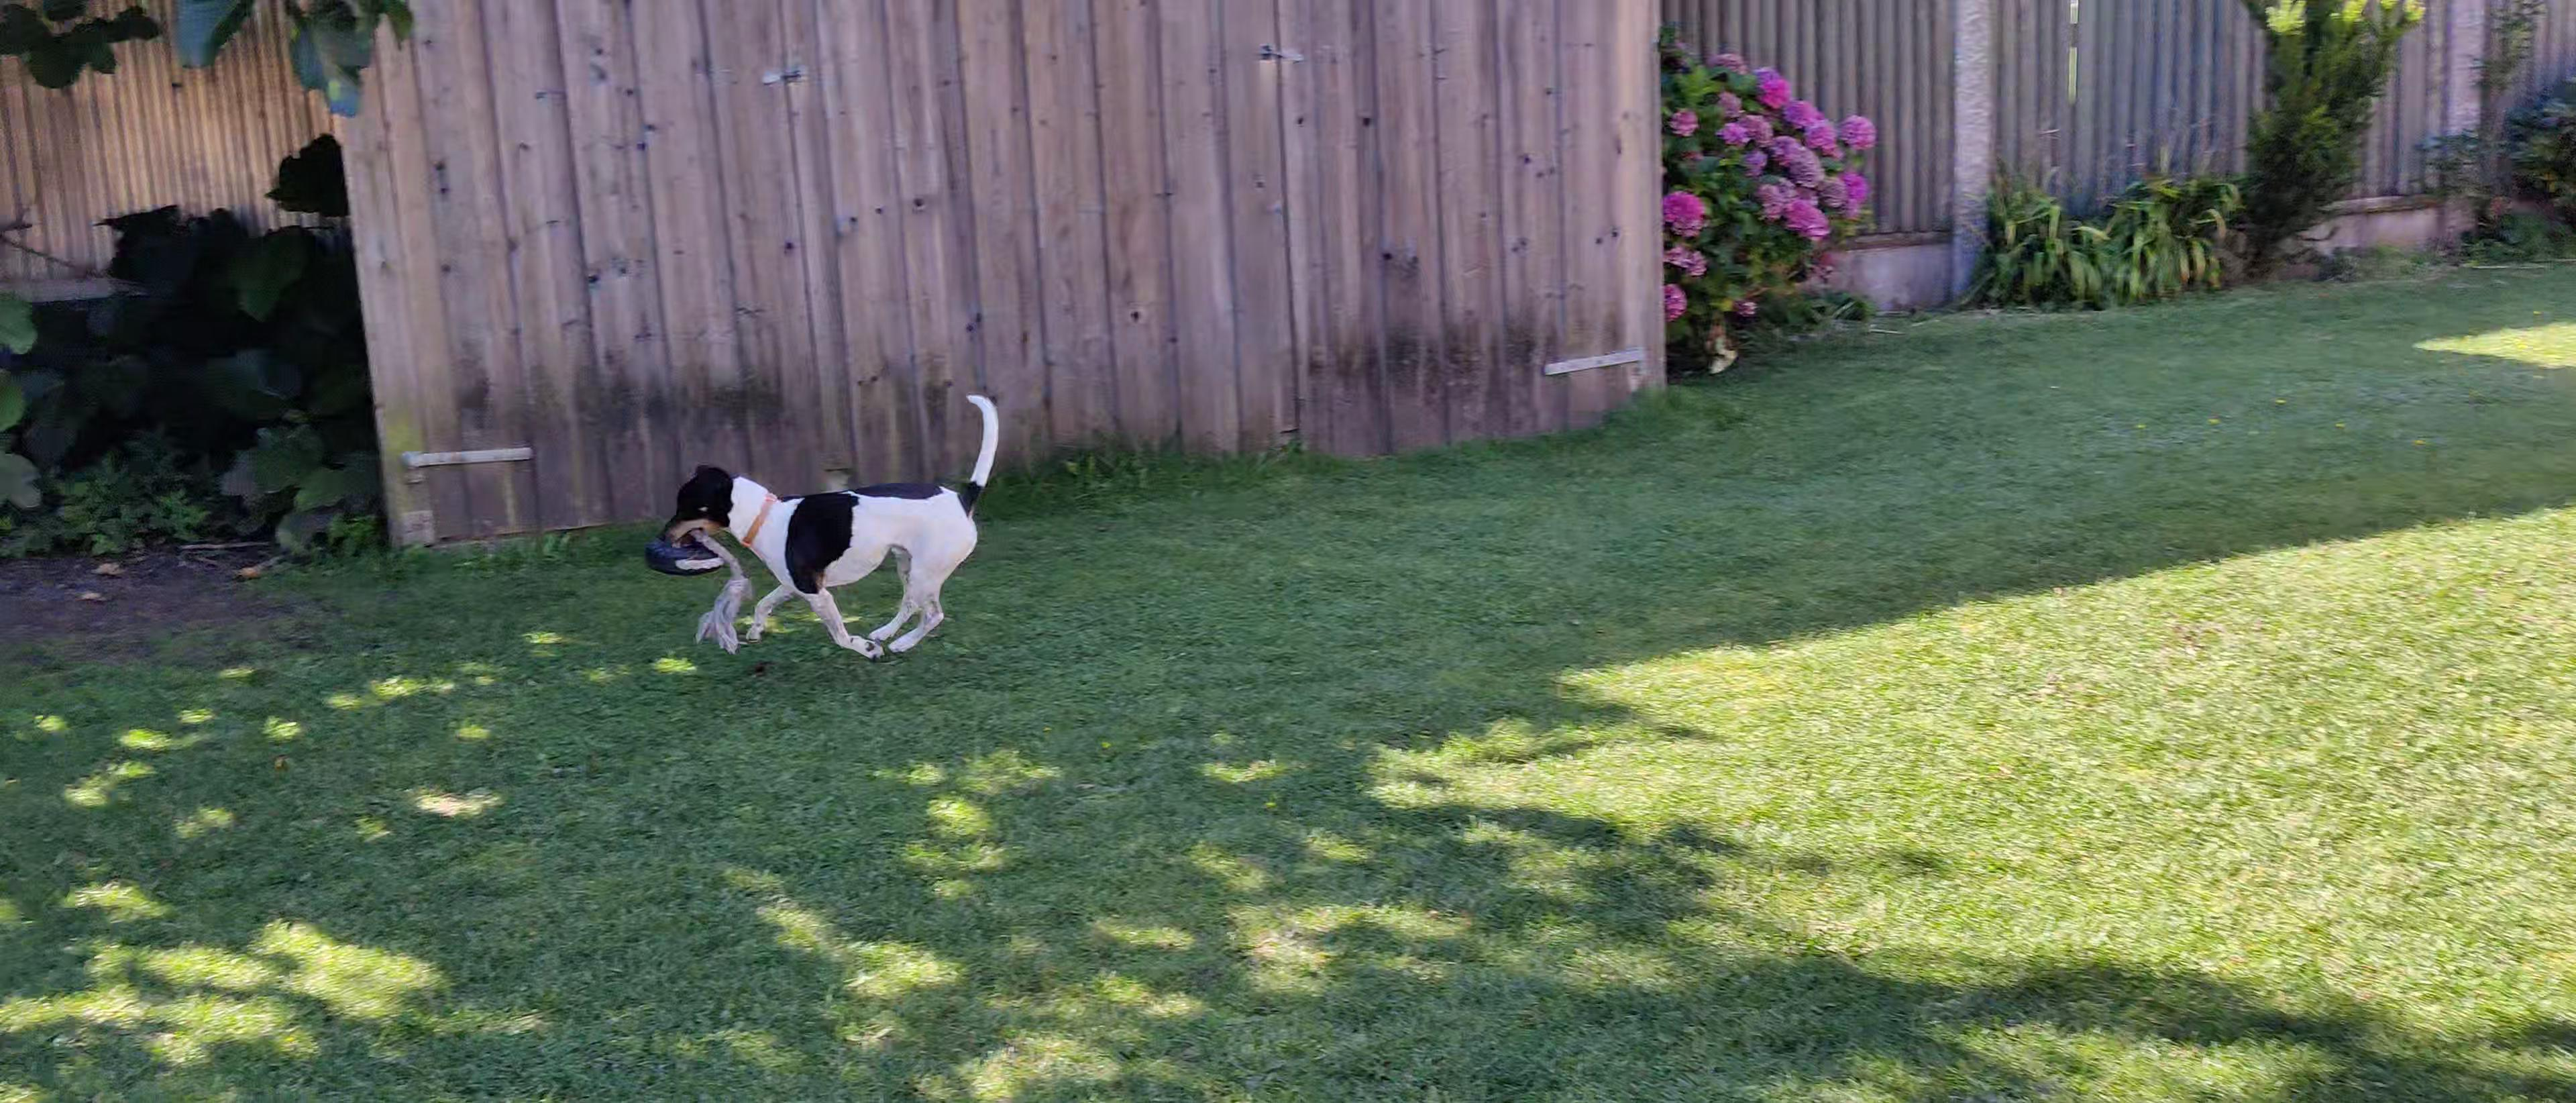Dog: (652, 390, 1002, 659)
